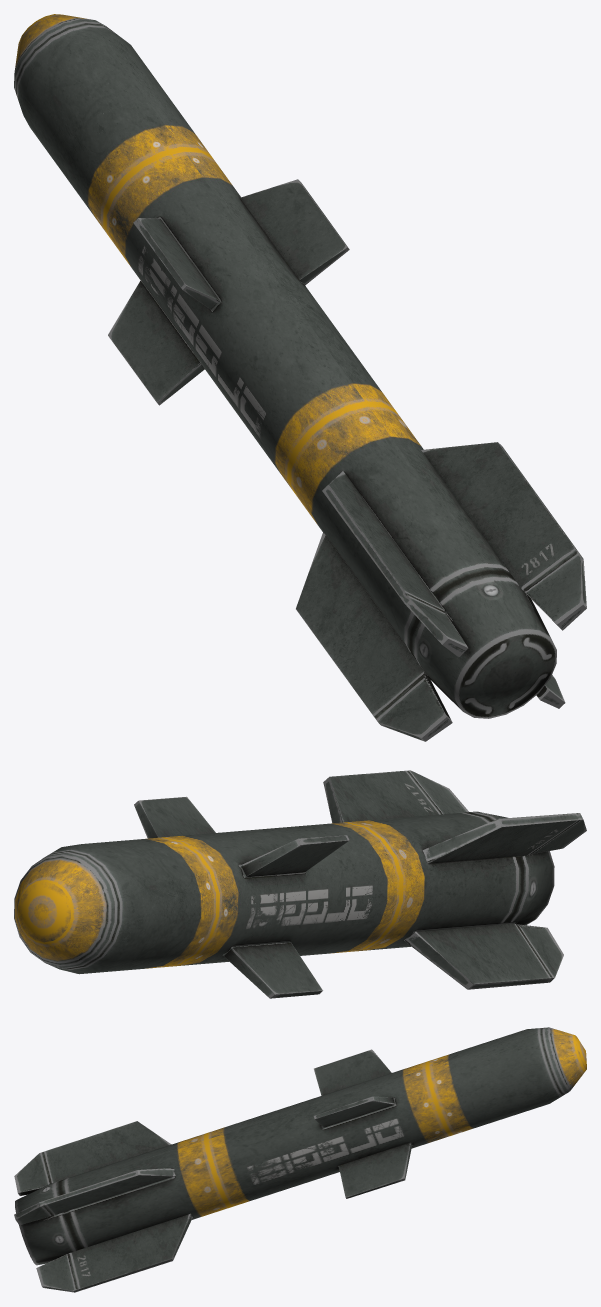
The picture shows the model from 3 angles, top to bottom: view 1: azimuth 30°, elevation 25°; view 2: azimuth 150°, elevation 25°; view 3: azimuth 270°, elevation 25°; orthographic projection. The views are drawn at different scales.
Visible parts, largest first — view 1: Bomb_lp; view 2: Bomb_lp; view 3: Bomb_lp.
Part boxes in pixels (x1,y1,x2,y2): Bomb_lp: [14, 14, 586, 741]; Bomb_lp: [14, 770, 586, 998]; Bomb_lp: [14, 1027, 586, 1292].
Size of the model in its own units: 0.4182 by 0.8799 by 1.92.
Materials: 1 (1 with a texture image).
